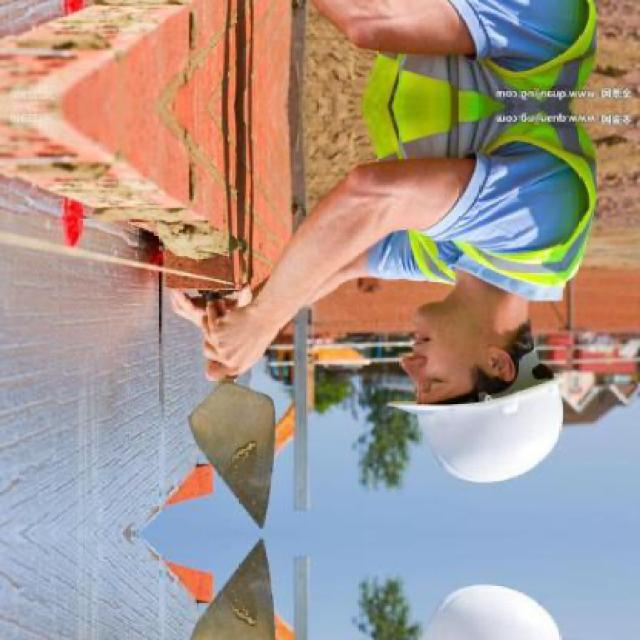con casco: (353, 328, 614, 526)
